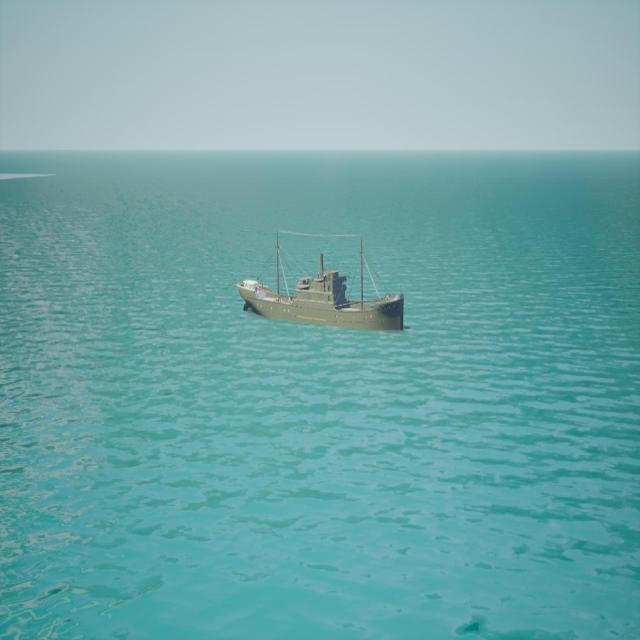fishing ship: (239, 234, 405, 333)
